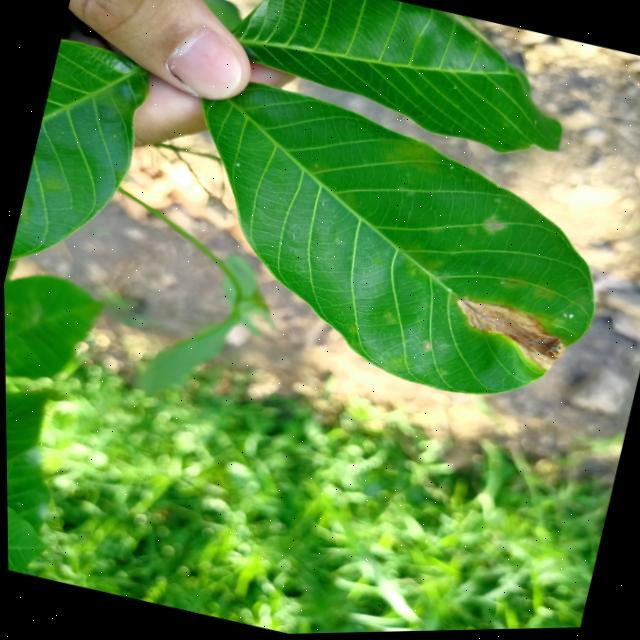Leaf-Blight: (444, 296, 571, 378)
